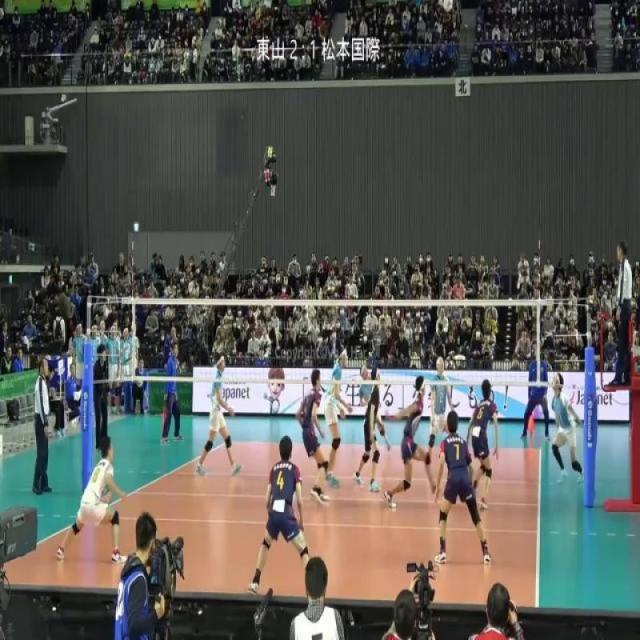volleyball: (442, 0, 454, 13)
